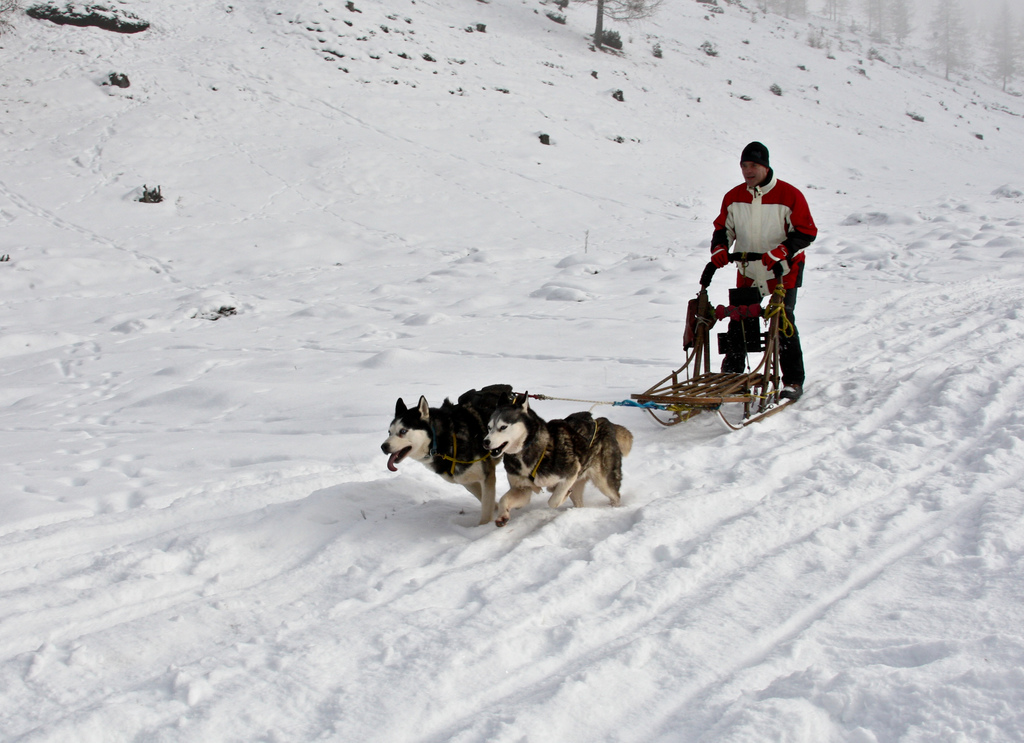Person: (710, 141, 817, 398)
